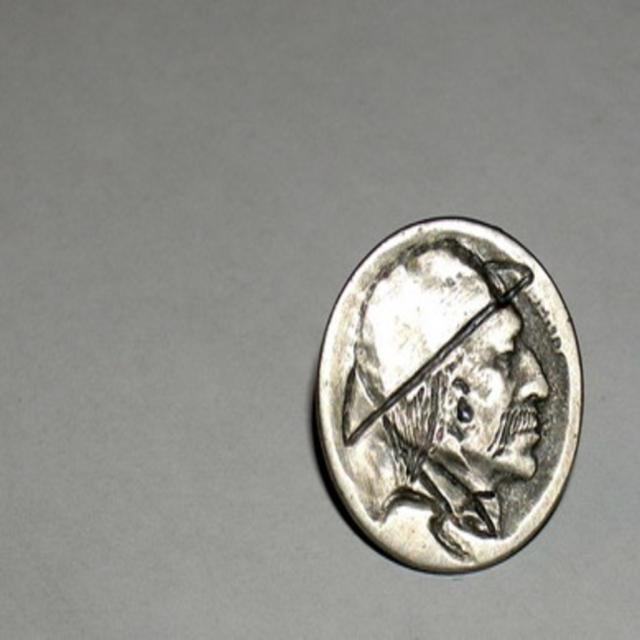Coin: (318, 215, 584, 579)
